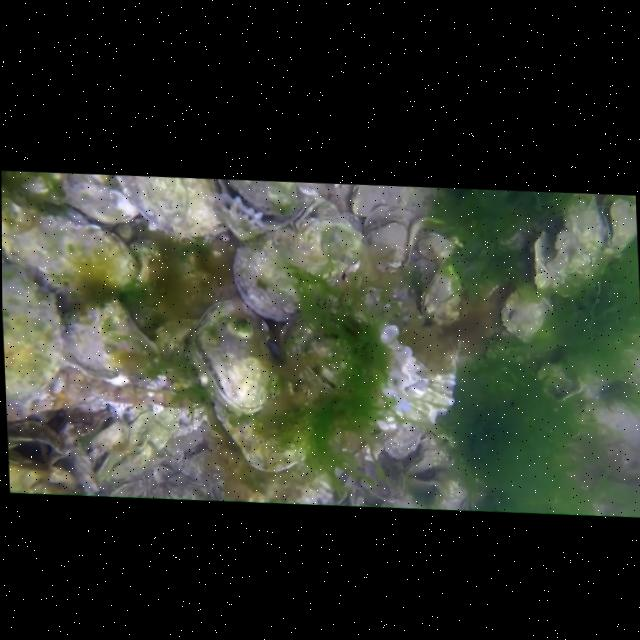Oyster-Closed: (1, 196, 136, 298), (190, 297, 280, 413), (2, 265, 62, 399), (214, 391, 311, 472), (379, 324, 455, 421), (63, 299, 158, 375), (280, 318, 348, 404), (233, 244, 298, 322), (62, 174, 139, 224), (363, 205, 413, 271), (501, 284, 552, 342), (228, 180, 298, 217), (129, 406, 179, 453), (422, 264, 461, 324), (96, 443, 155, 481), (1, 172, 63, 204), (1, 198, 34, 246), (384, 424, 422, 459), (91, 430, 105, 449), (100, 415, 112, 429)
Oyster-Indeterminate: (155, 236, 237, 319)
Oyster-Open: (531, 194, 610, 296), (7, 419, 79, 493), (405, 433, 453, 506), (359, 450, 415, 507), (597, 194, 637, 255), (214, 193, 265, 240), (537, 363, 582, 400)
